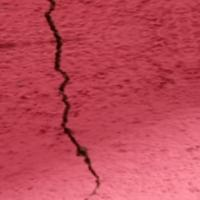crack: (26, 1, 125, 199)
